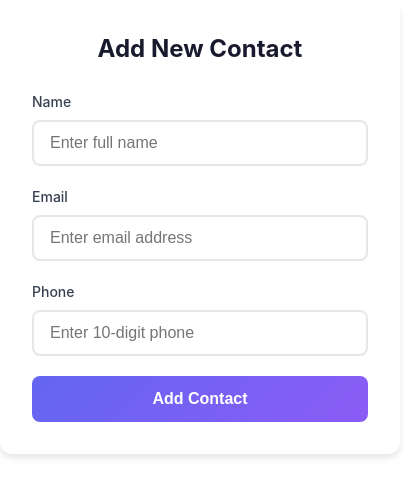
Test: ContactForm › shows validation error for invalid email
Type "invalid-email" into the field labelled "Email" at (200, 238), box [32,215,368,261]
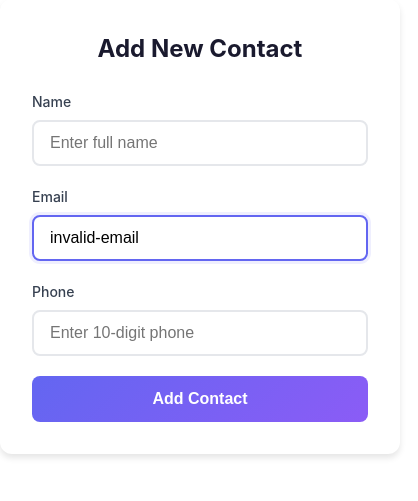
Leave the field labelled "Email", box [32,215,368,261]
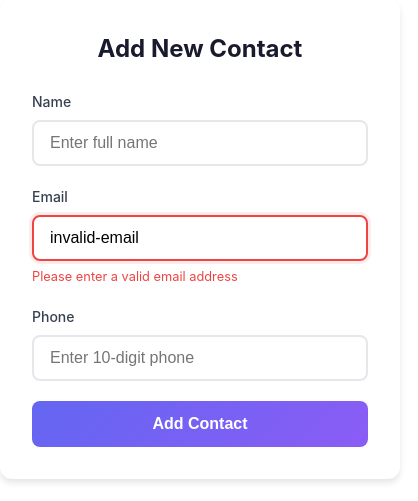
Expected: the text "Please enter a valid email address" is shown, [32,269,238,284]
